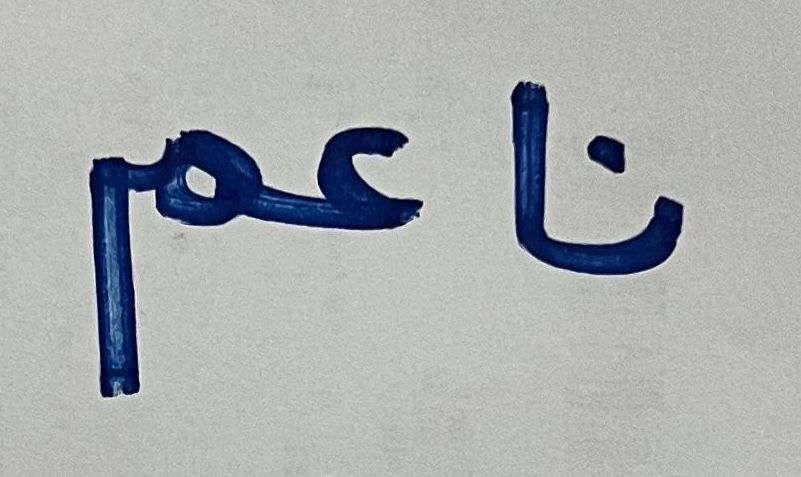ain: (280, 87, 454, 298)
alef: (488, 57, 563, 314)
meem: (54, 102, 275, 413)
noon: (568, 122, 701, 333)
